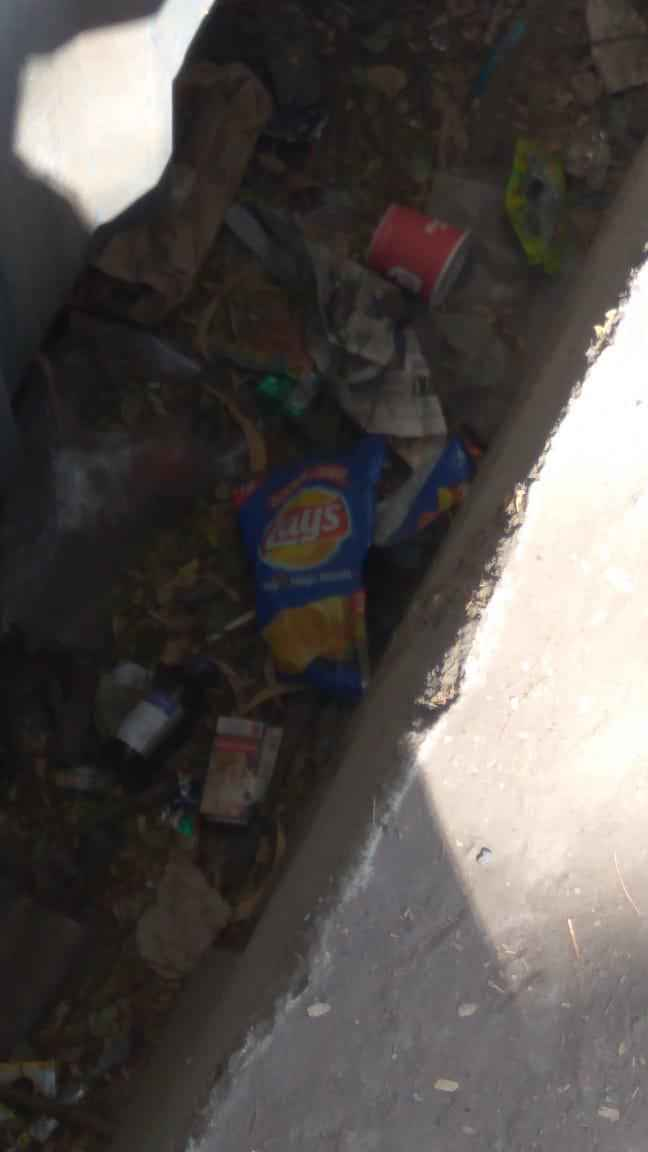Lays: (258, 482, 351, 577)
